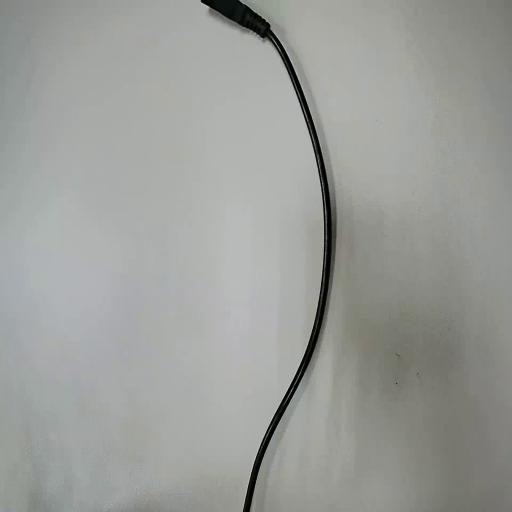wire: (202, 0, 332, 511)
